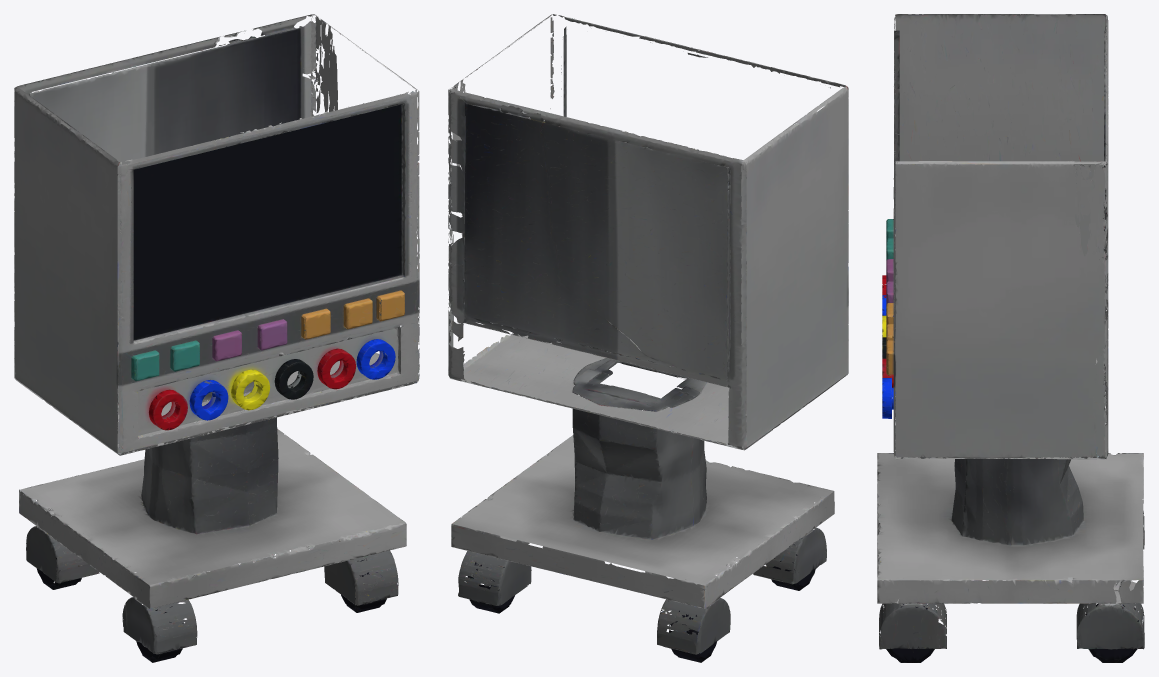
Rendered from ecg-cart.glb.
3 views of the same model, side by side, from view 1: azimuth 30°, elevation 25°; view 2: azimuth 150°, elevation 25°; view 3: azimuth 270°, elevation 25° (orthographic). The views are drawn at different scales.
Visible parts, largest first — view 1: world; view 2: world; view 3: world.
Part boxes in pixels (x1=…): world: x1=14, y1=14, x2=419, y2=662; world: x1=448, y1=14, x2=848, y2=662; world: x1=877, y1=14, x2=1144, y2=662.
Size of the model in its own units: 0.6179 by 1 by 0.4667.
1 material, 1 textured.
